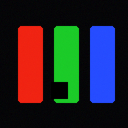1 square: (51, 82, 67, 98)
